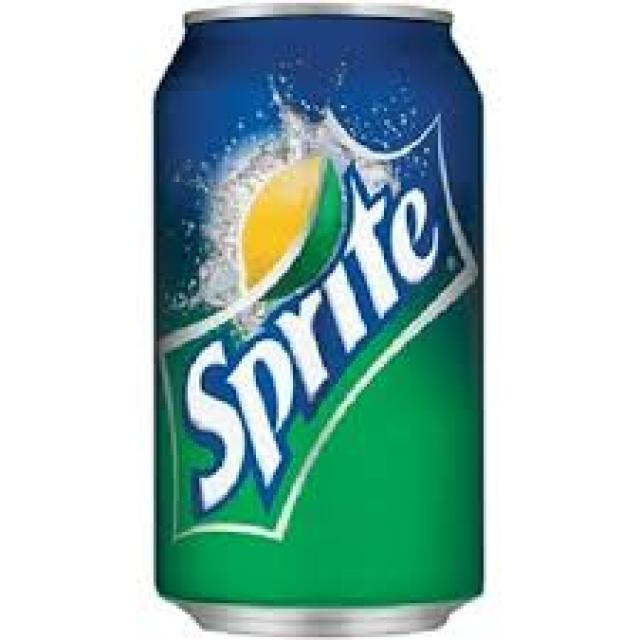aluminum_can: (156, 11, 484, 636)
